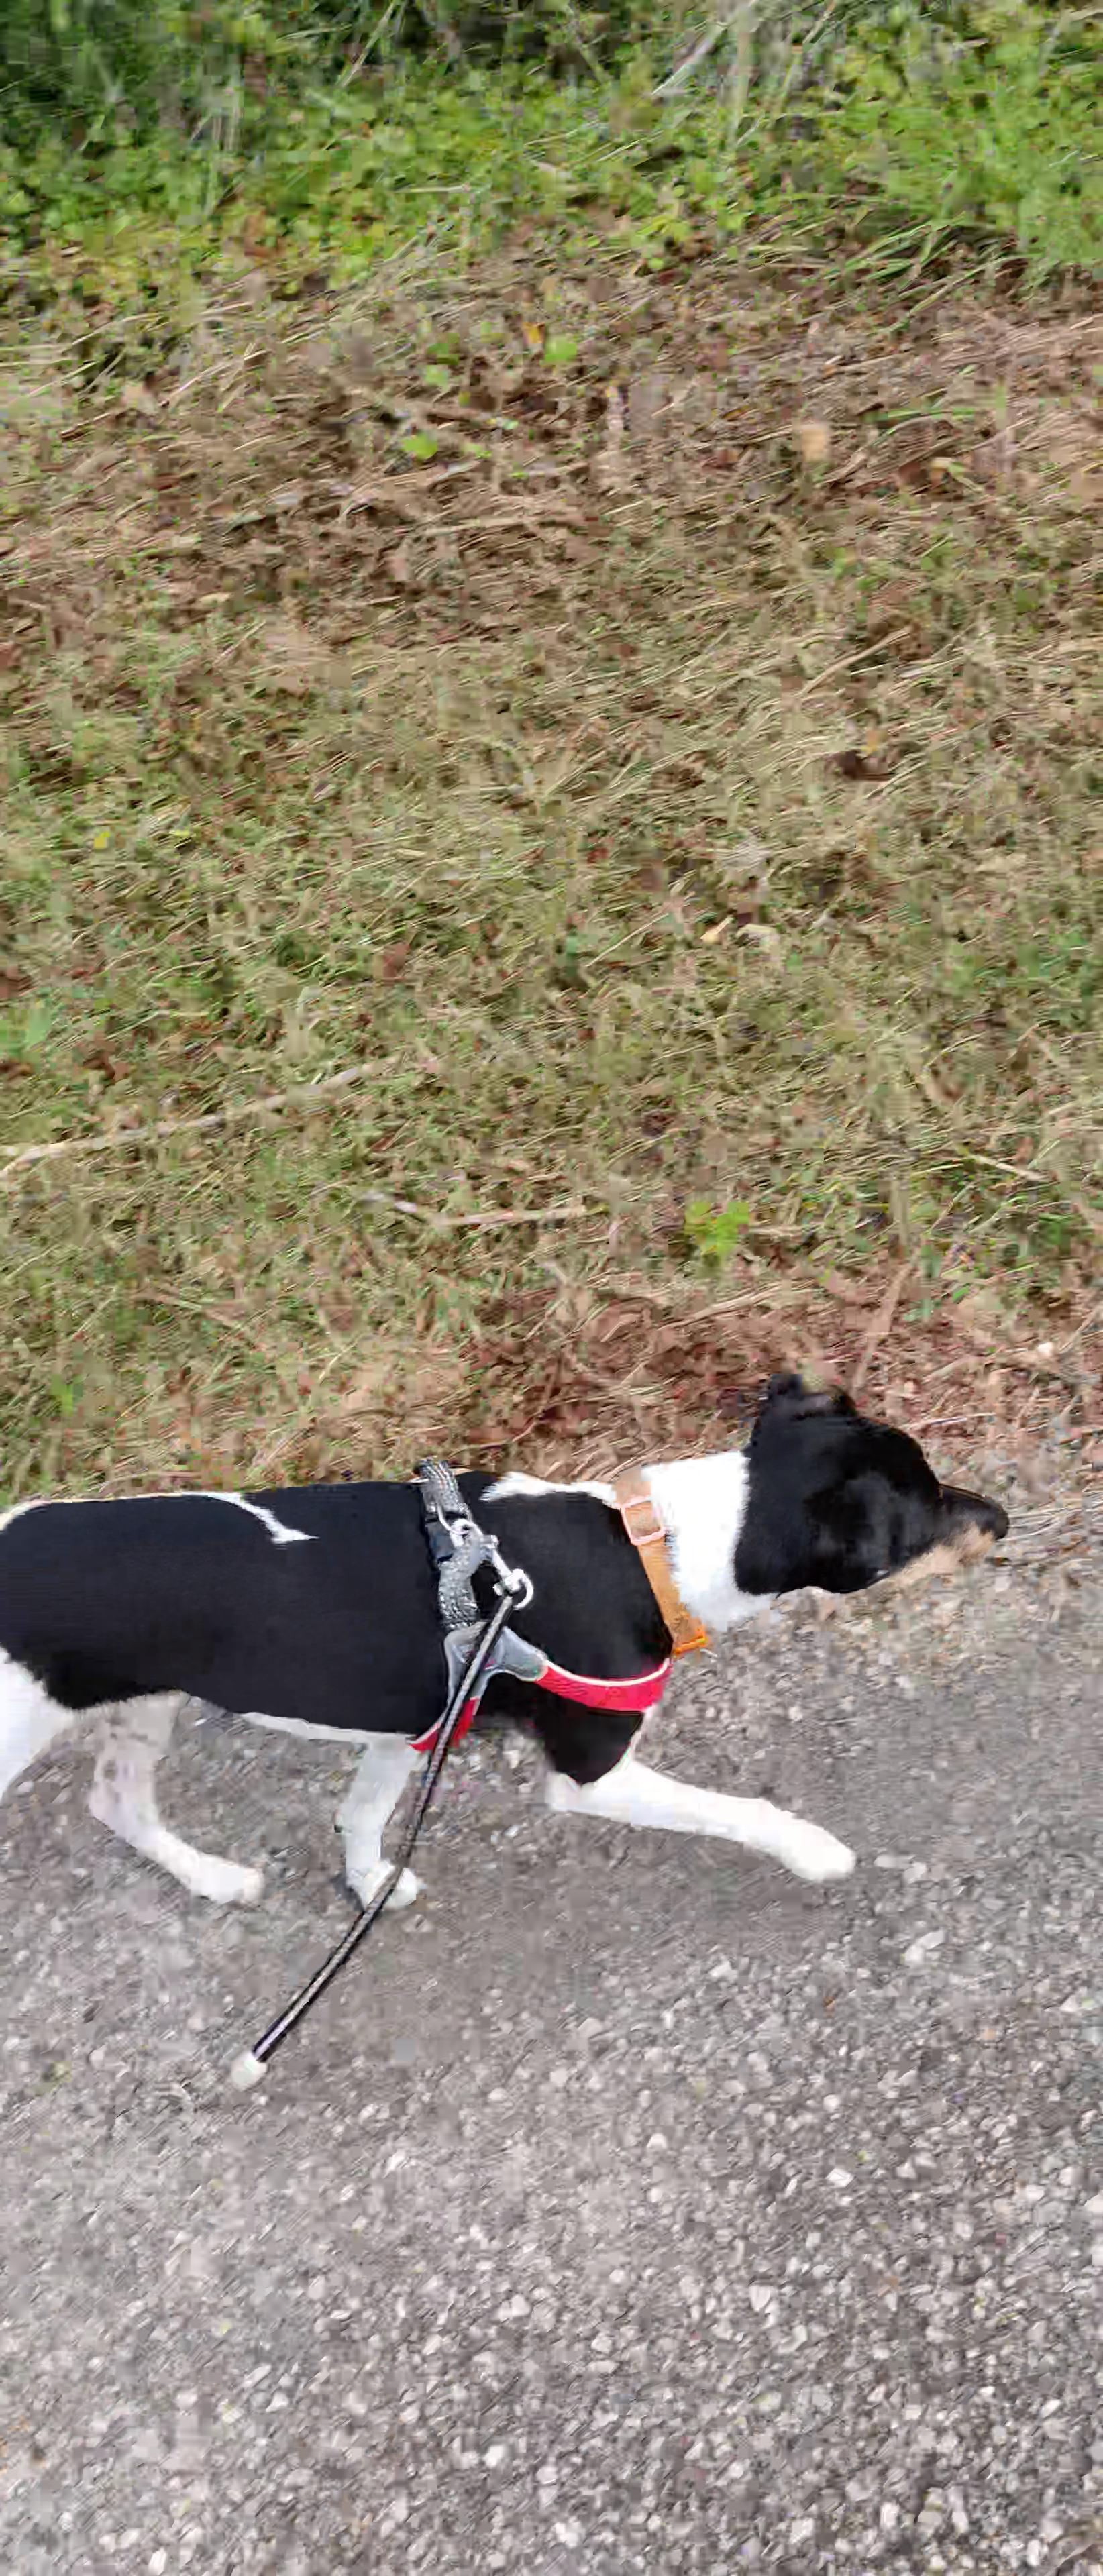Dog: (0, 1362, 1016, 1924)
